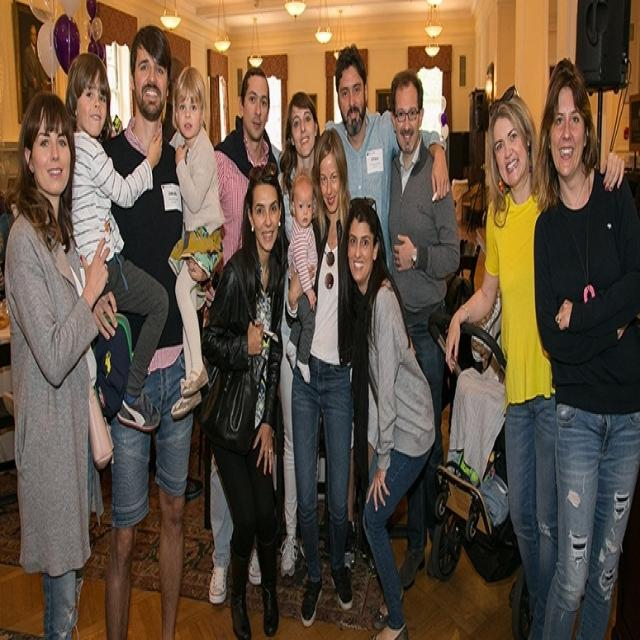body: (441, 84, 629, 638), (0, 79, 121, 638), (527, 54, 639, 638), (98, 18, 197, 640), (336, 194, 436, 638), (58, 48, 172, 436), (198, 165, 288, 640), (208, 64, 282, 606), (386, 69, 462, 594), (288, 119, 357, 629), (323, 40, 452, 275), (432, 230, 521, 538), (278, 89, 326, 582), (165, 61, 228, 422), (284, 170, 320, 386), (0, 183, 22, 317)
